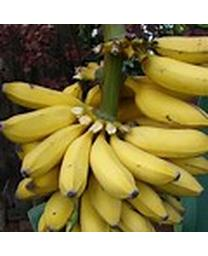banana: (1, 80, 206, 228)
